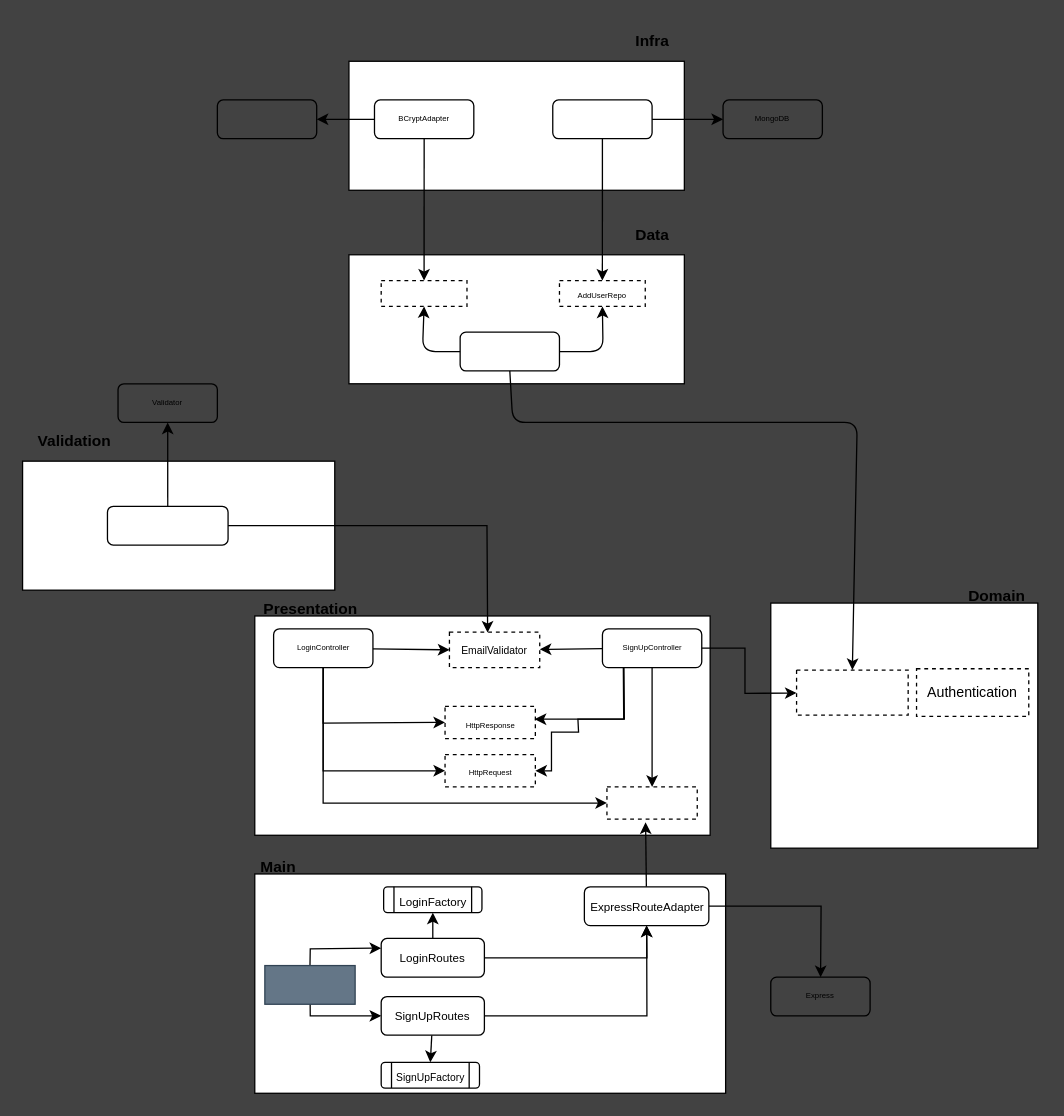
Some shapes in this 1064 by 1116 pixel diagram are drawn without their labels. Each missing label, with the centre of its shape:
AddAccount UseCase: the point at 851,692
AddUserMongoRepo: the point at 601,119
App: the point at 309,984
BCrypt: the point at 266,119
Controller: the point at 651,802
DbAddAccount UseCase: the point at 509,351
EmailValidatorAdapter: the point at 167,525
Encrypter: the point at 423,292
